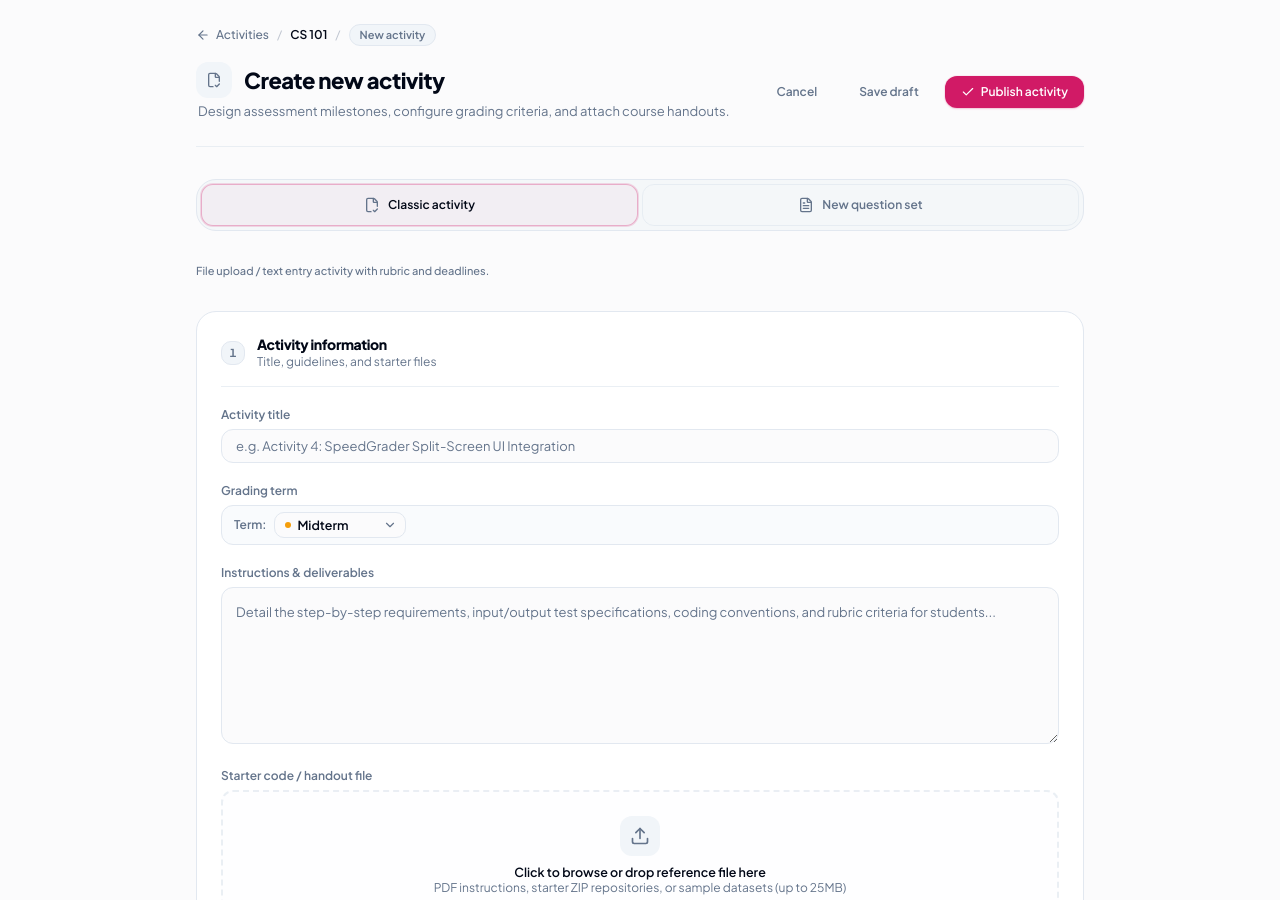
Test: CreateActivityPage publish loading › publish button shows loading while the request is in flight
Type "Activity 1: Basics" into the field with placeholder "e.g. Activity 4: SpeedGrader Split-Screen UI Integration" at [640, 446], box left=221, top=429, right=1059, bottom=463
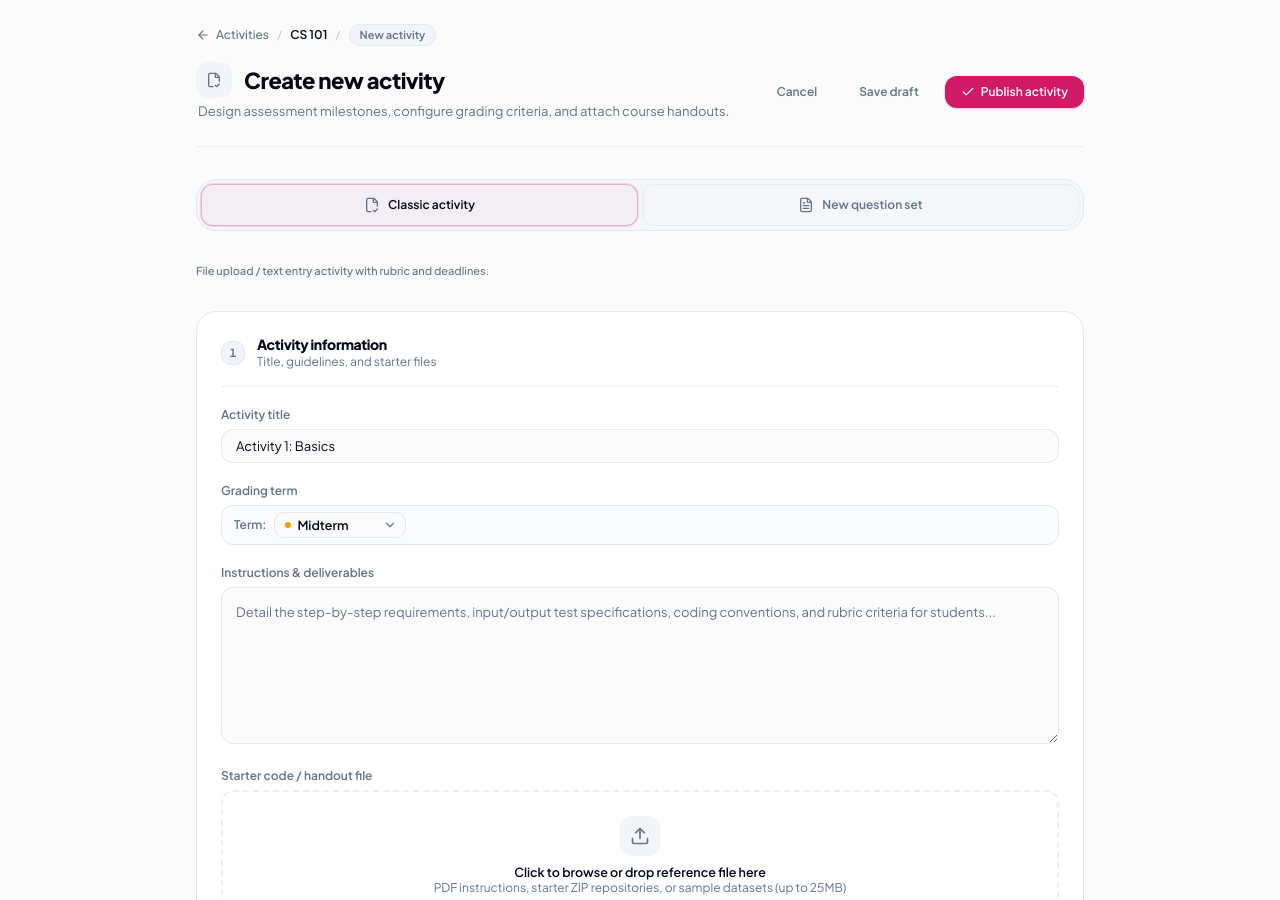
Click the button "Publish activity" at [1014, 92], box left=945, top=76, right=1084, bottom=108
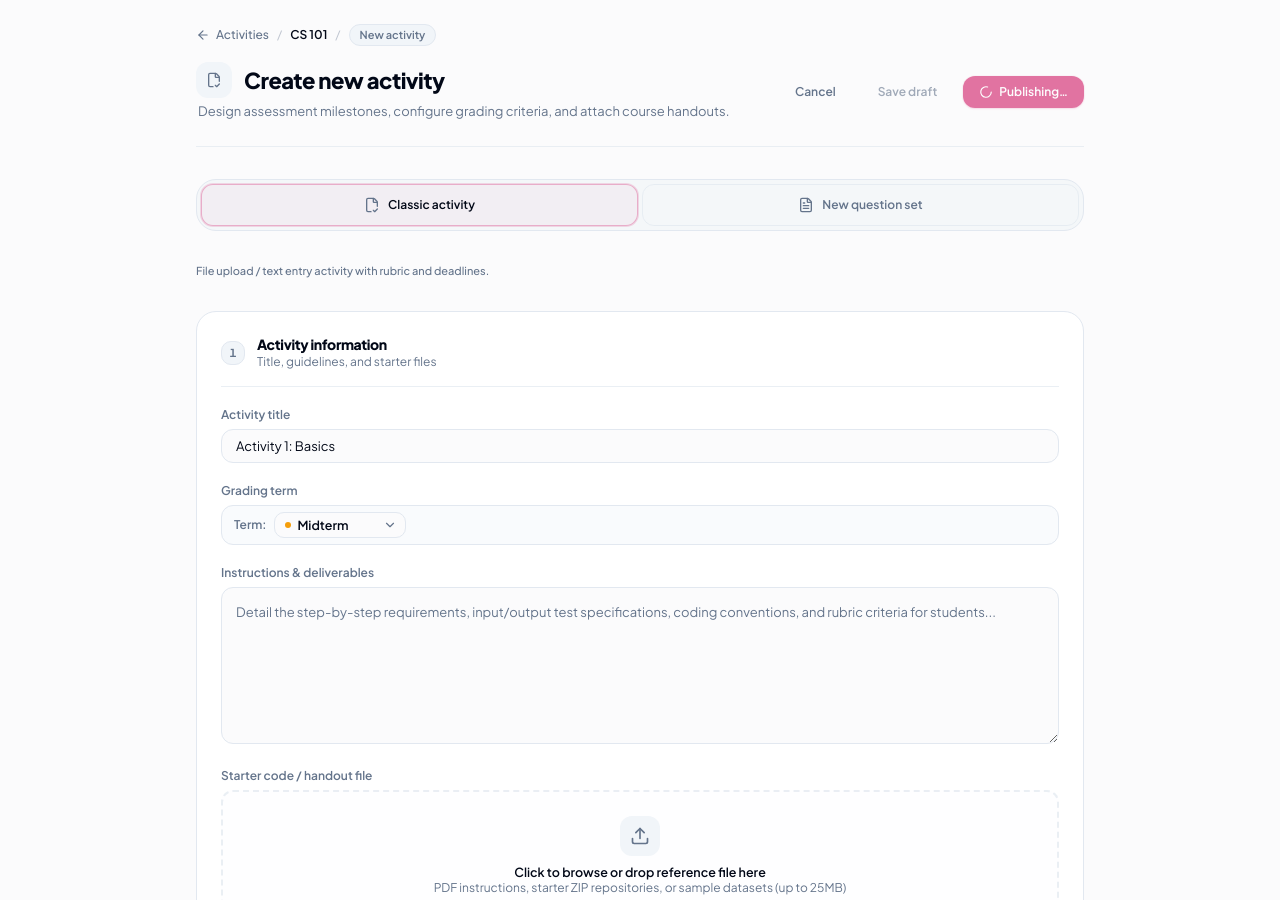
Now the text "Publishing…" is shown, box left=999, top=84, right=1068, bottom=100
